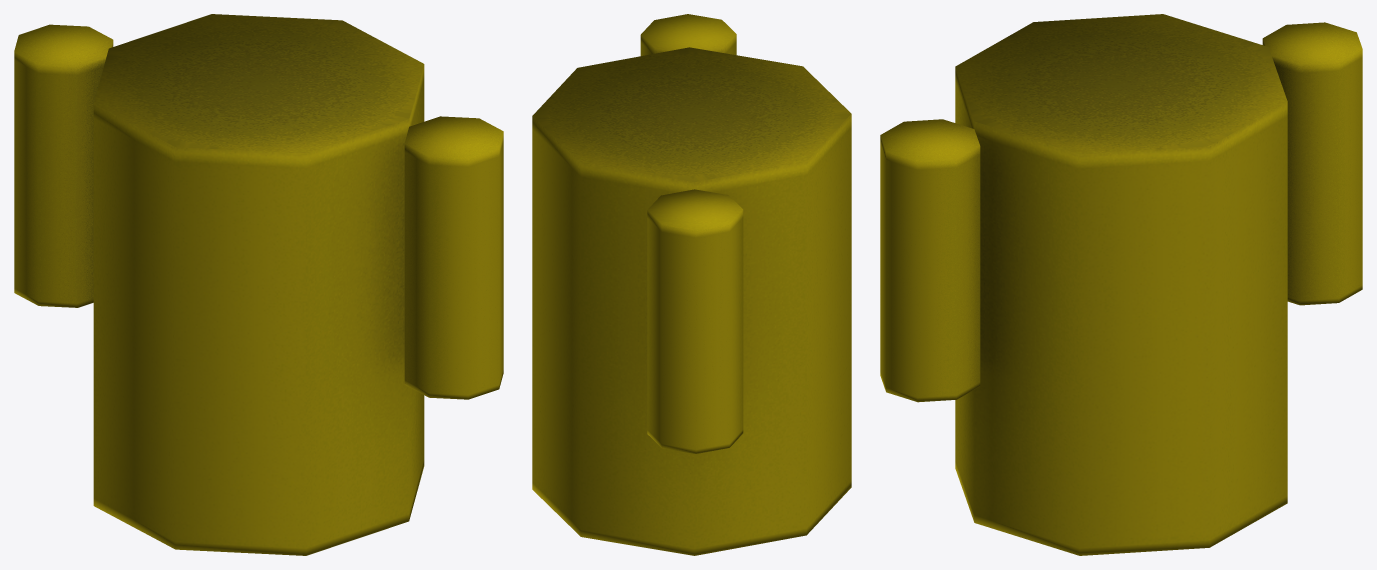
File: Android_yellow.dae
The picture shows the model from 3 angles, left to right: view 1: azimuth 30°, elevation 25°; view 2: azimuth 150°, elevation 25°; view 3: azimuth 270°, elevation 25°; orthographic projection. The views are drawn at different scales.
Visible parts, largest first — view 1: Body, LeftHand, RightHand; view 2: Body, RightHand, LeftHand; view 3: Body, LeftHand, RightHand.
Part boxes in pixels (x1,y1,x2,y2): Body: (93,14,424,555); LeftHand: (404,116,503,399); RightHand: (14,24,113,307); Body: (532,47,851,555); RightHand: (647,189,743,453); LeftHand: (640,14,736,55); Body: (955,14,1287,555); LeftHand: (880,119,980,402); RightHand: (1262,22,1362,305).
Bounding box in the file's own units: 1.94 × 2.81 × 2.58.
1 material, 1 textured.
